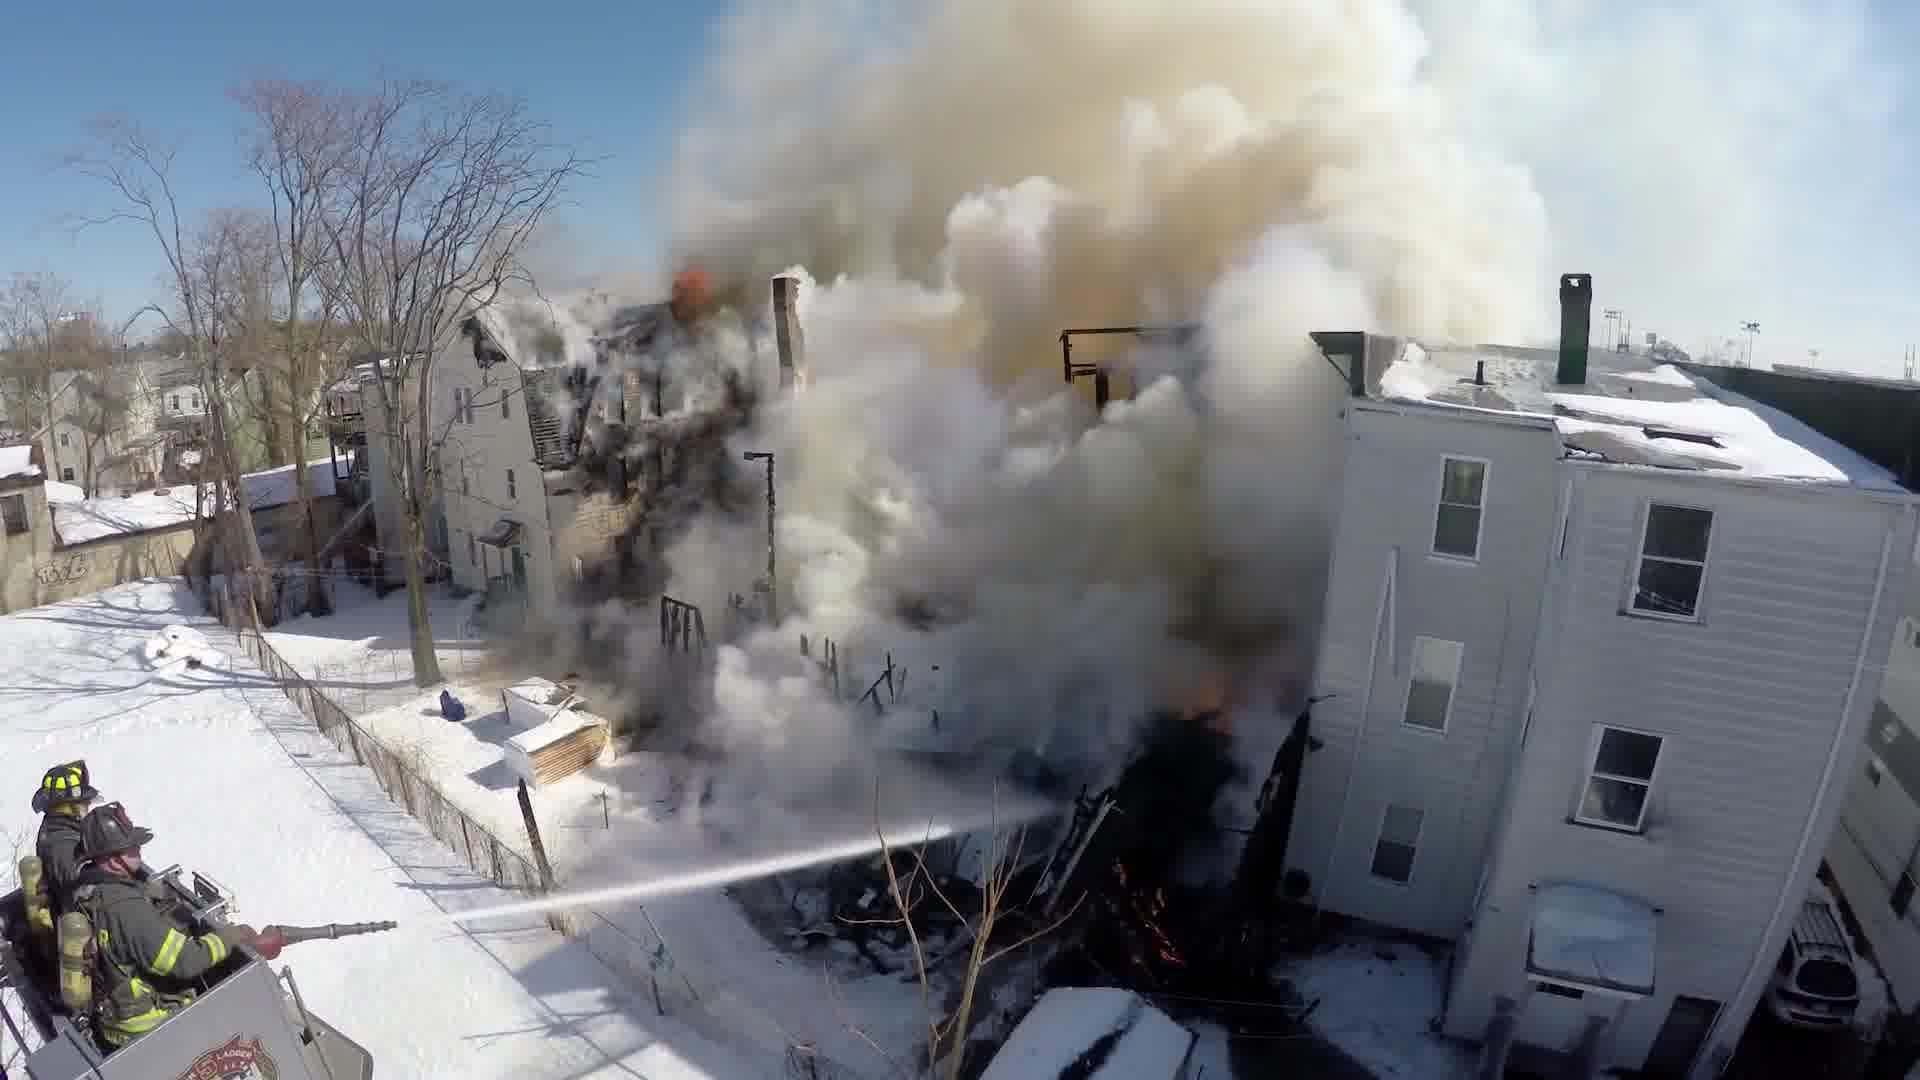smoke: (781, 8, 1382, 616)
